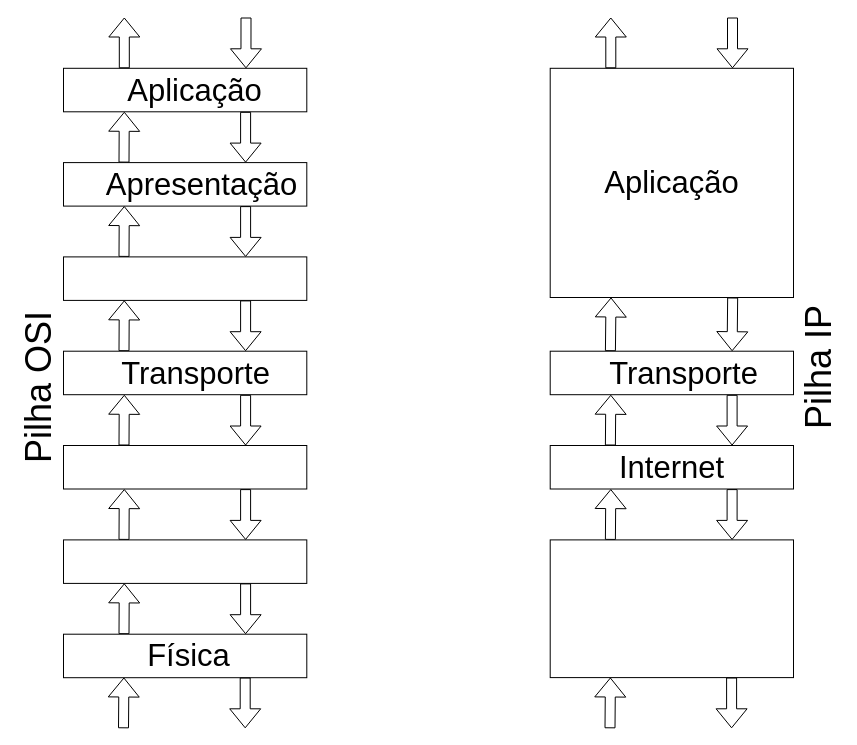
Image size: 857x745. Some labels were removed from this diagram. The shapes that lost their labels are listed below. From the top down, each one's centre as x and y in pixels, then its label:
the point at 184,278: Sessão
the point at 184,466: Rede
the point at 184,561: Enlace
the point at 671,608: Host/Rede
